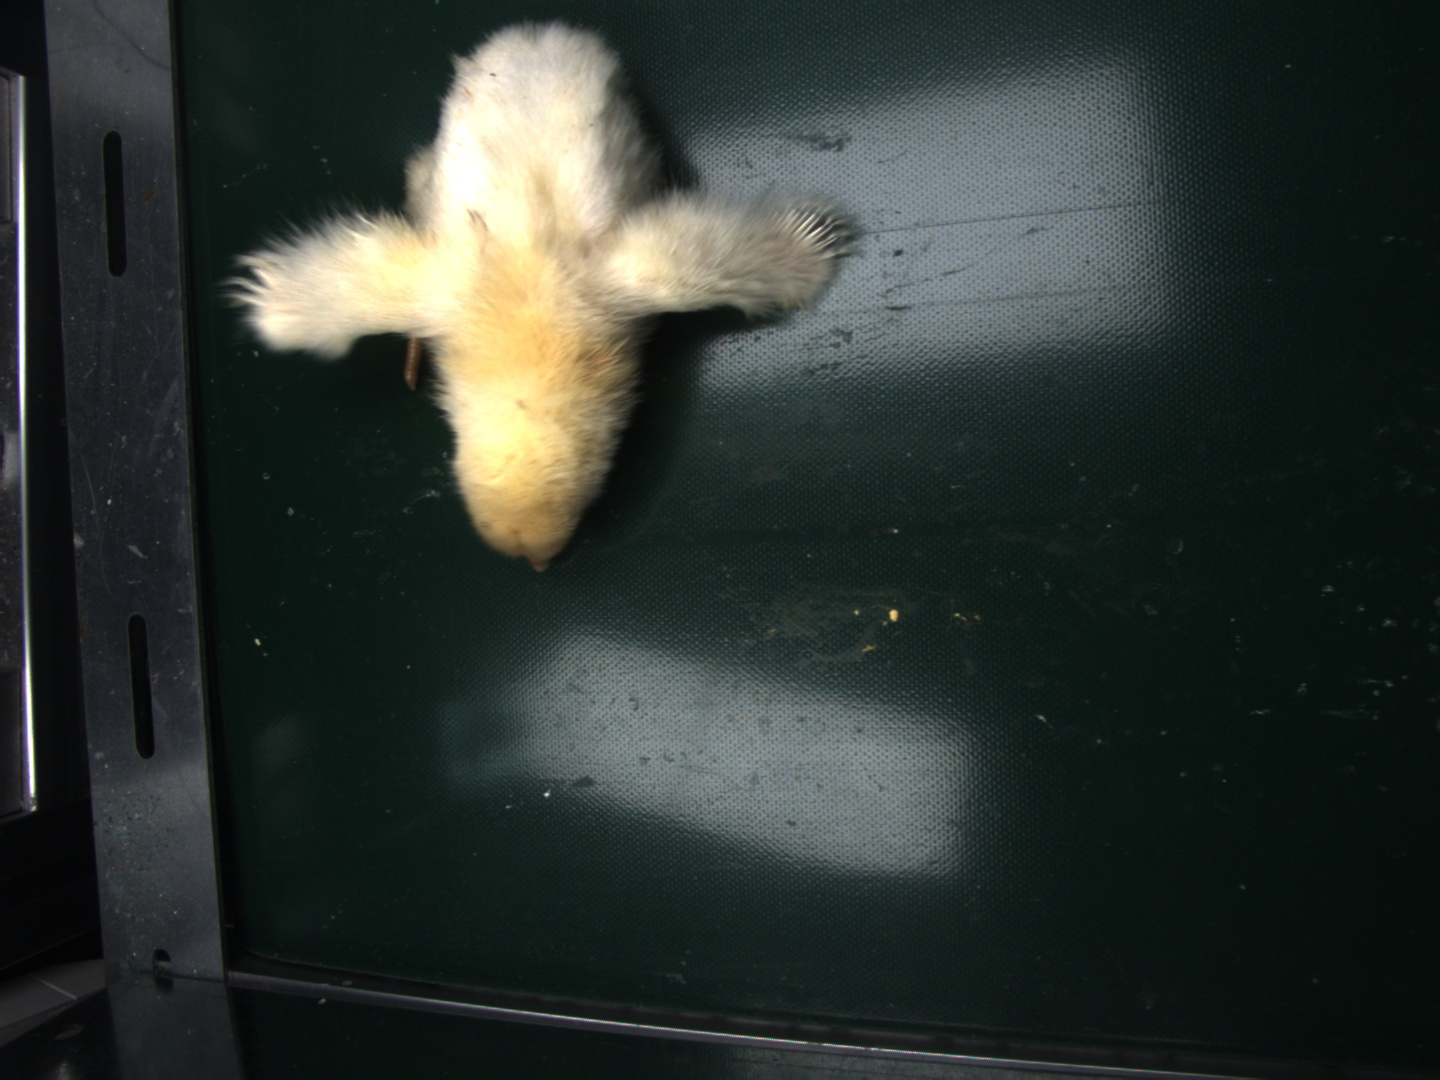male: (781, 206, 839, 259)
